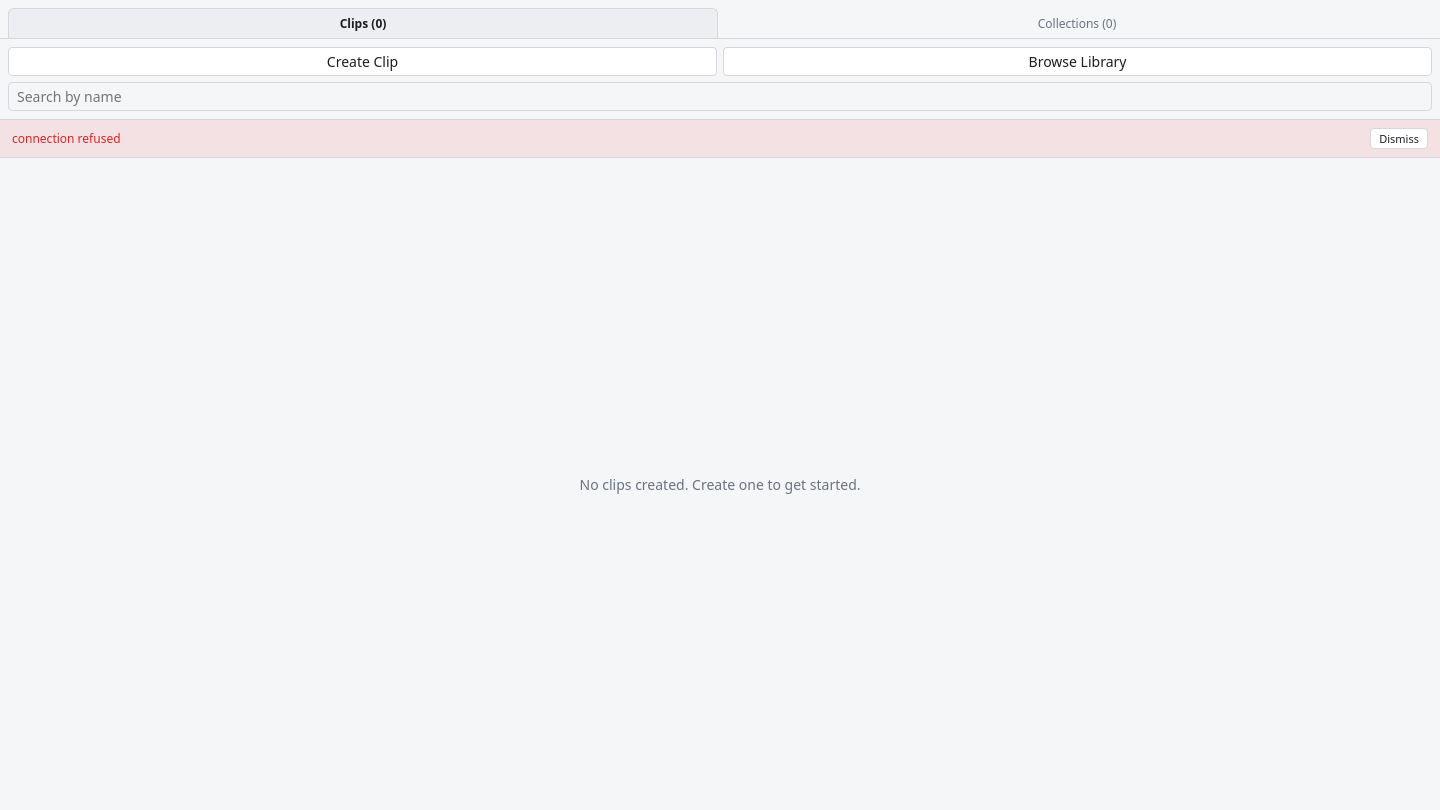
Test: LibraryBrowser › Library content › shows backend unavailable message when the backend is down
Click the button with test id "clips-browse-button". click: x=1078, y=62
box: [723,47,1432,76]
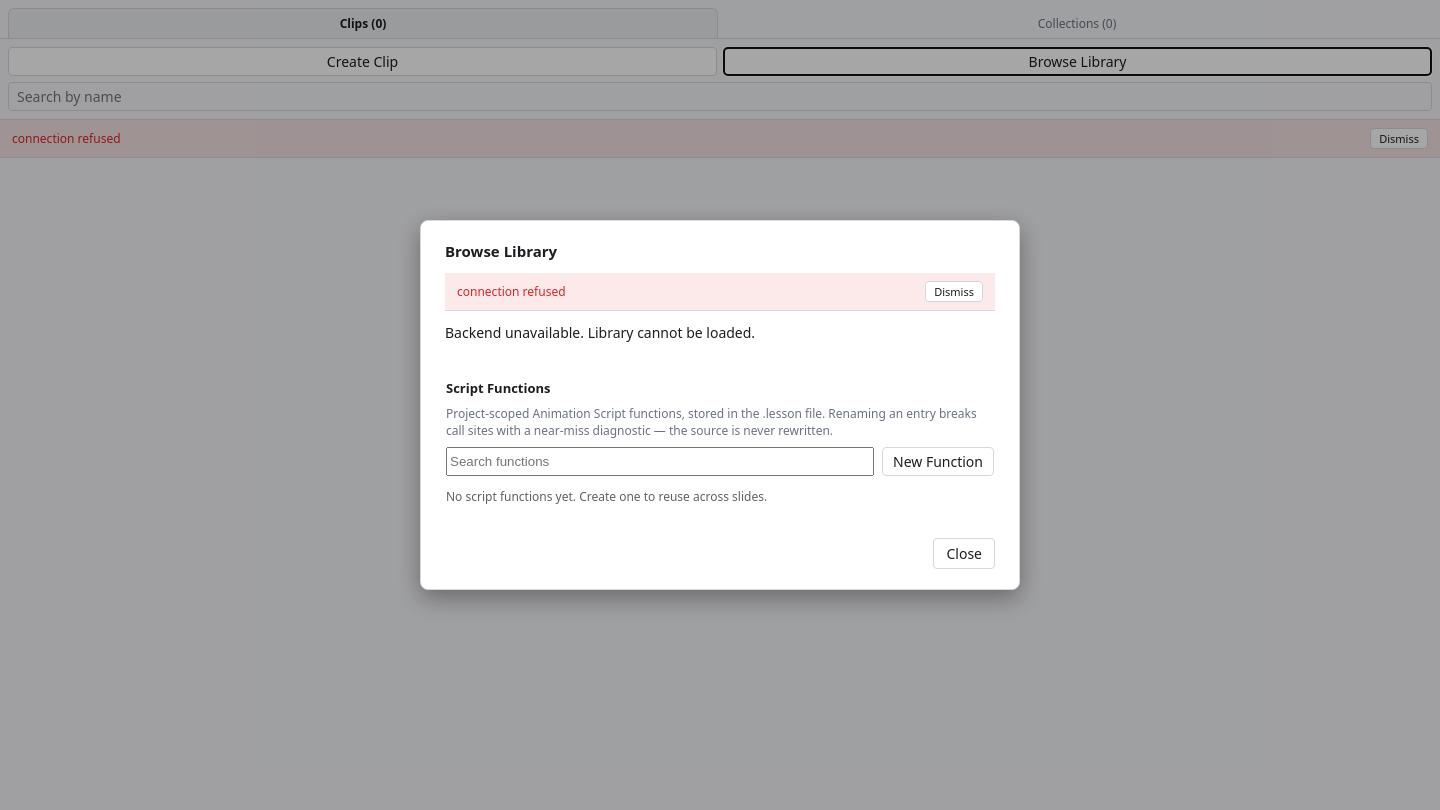
Check: the text "Backend unavailable. Library cannot be loaded." is shown, box [445,323,755,342]
